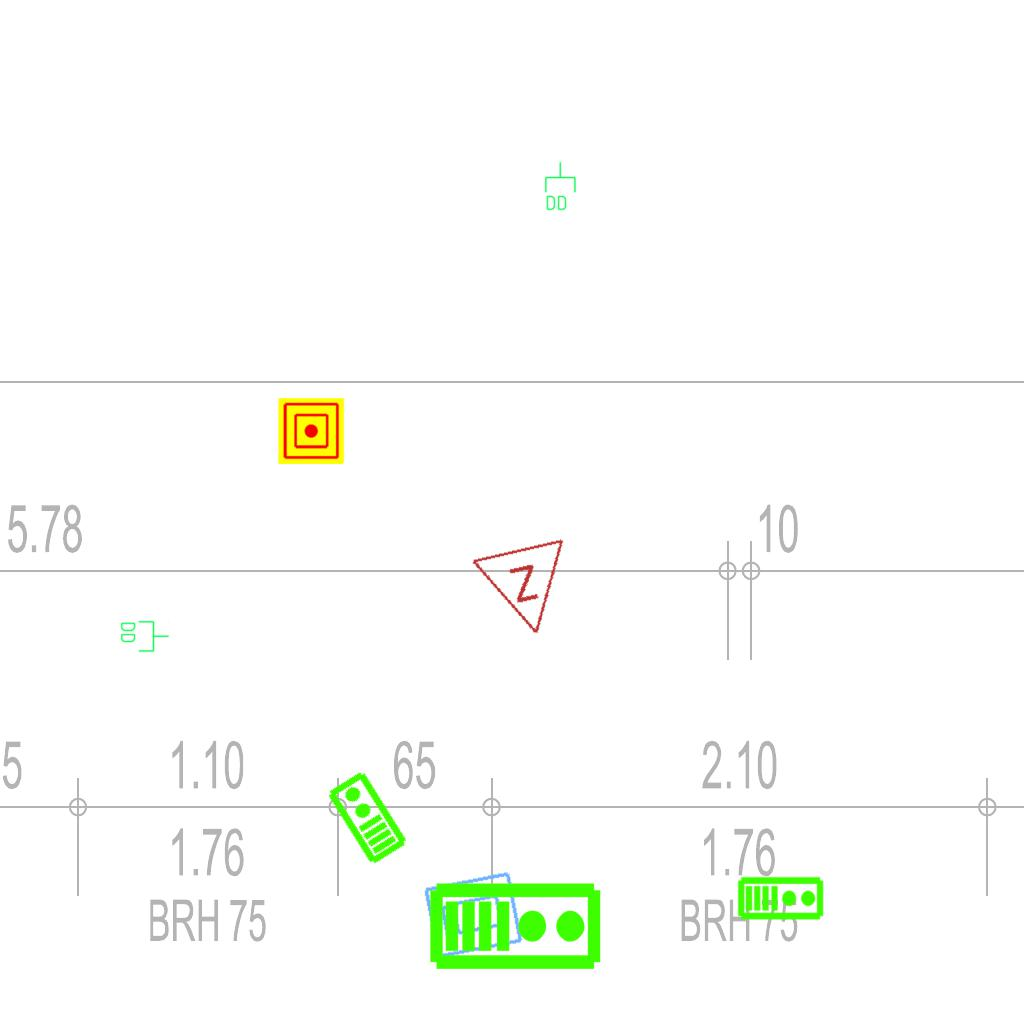Datenanschluss_zweifach: (119, 619, 170, 653), (543, 161, 577, 212)
Gegensprechanlage_mit_Video: (428, 877, 604, 972), (323, 768, 410, 868), (737, 874, 825, 921)
KFO_Kamera_mit_Festobjektiv: (421, 868, 526, 961)
NAM-Nichtautomatischer_Melder: (278, 398, 344, 464)
Zimmersignalleuchte: (469, 531, 587, 651)
